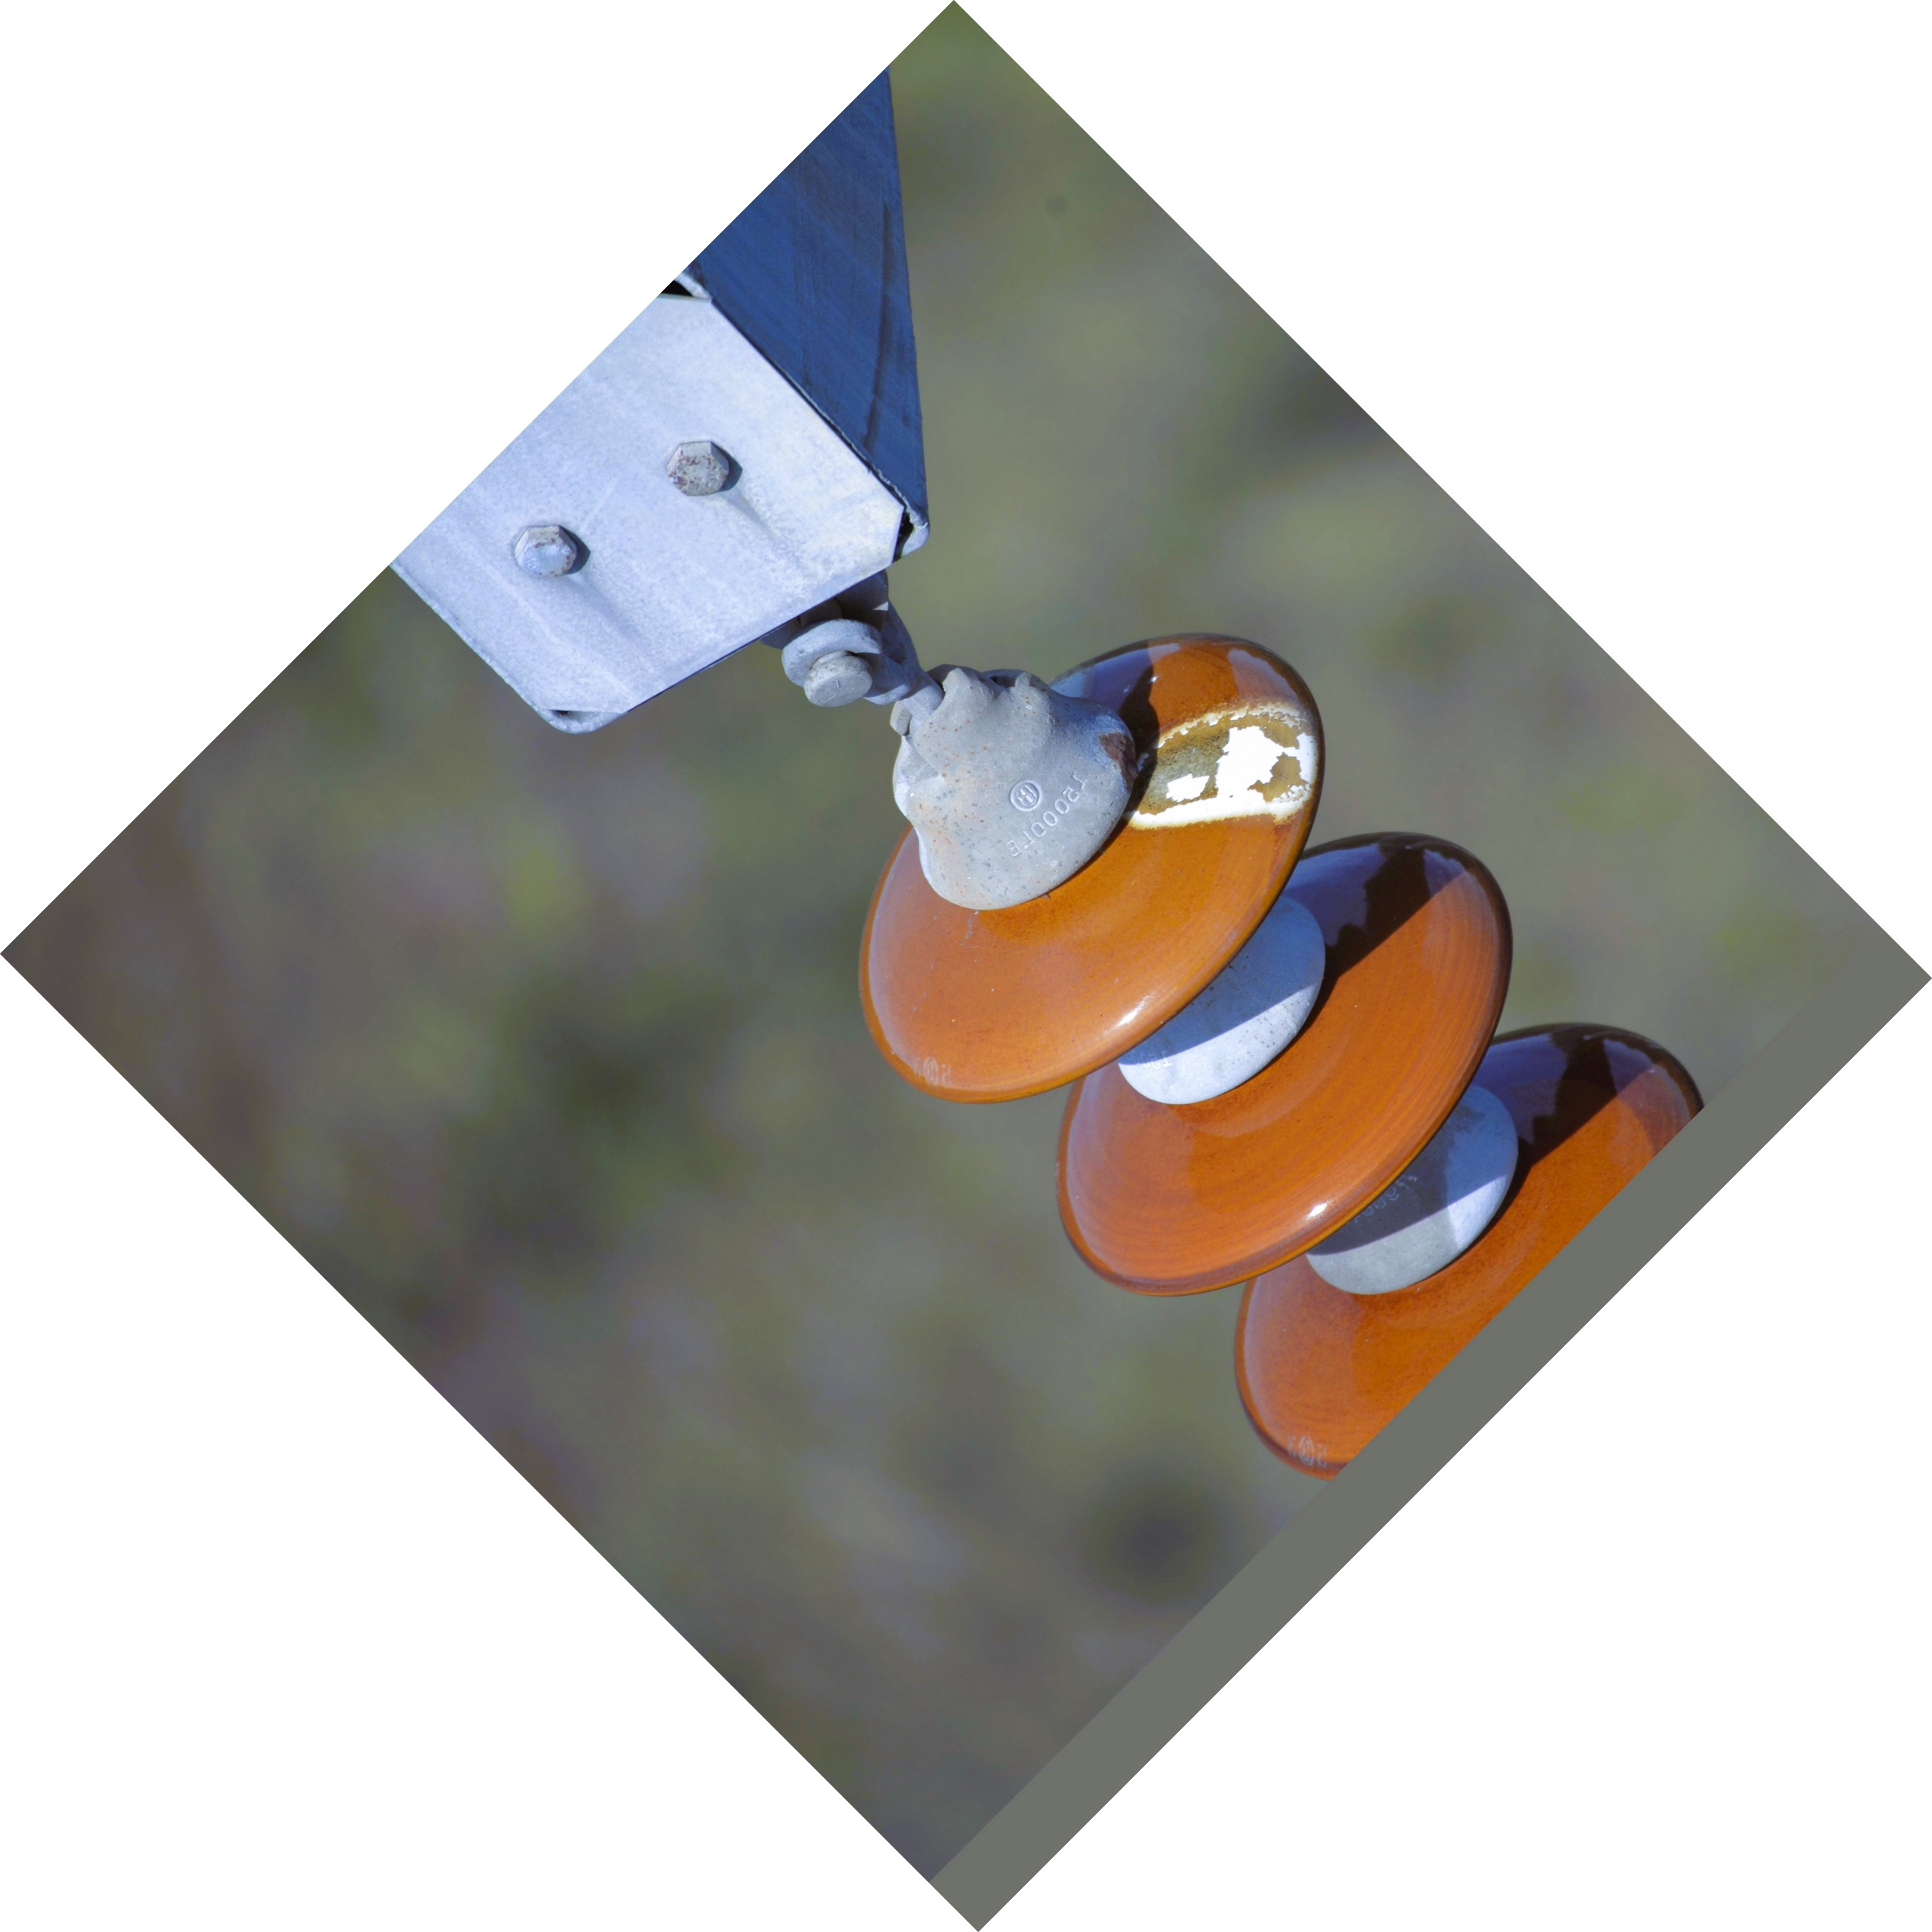Insulator flashover: (849, 582, 1339, 1115)
